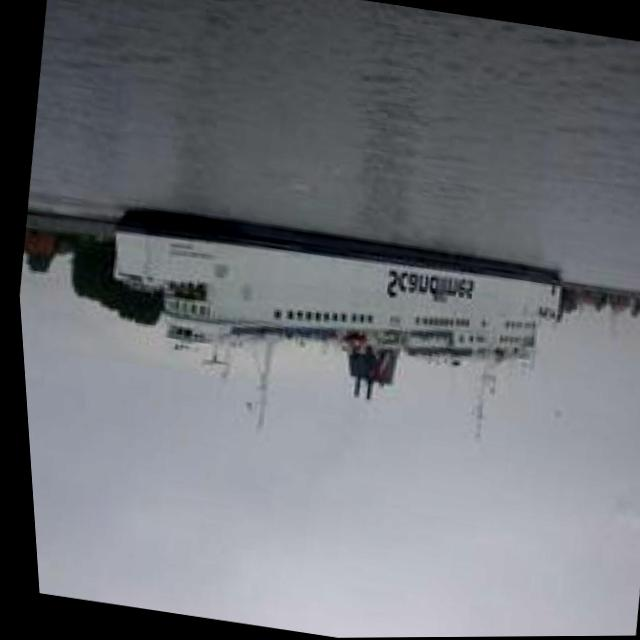ship2: (107, 210, 557, 445)
